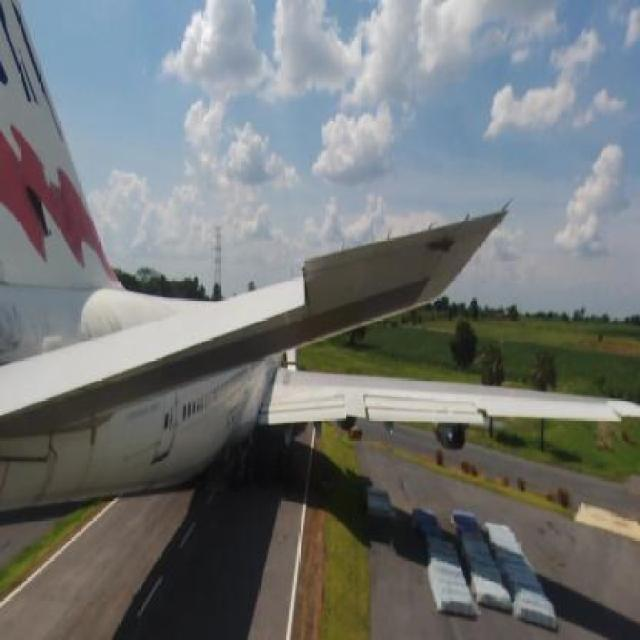Rust: (40, 443, 62, 514), (2, 302, 33, 346), (88, 428, 99, 499)
Scartch: (102, 312, 128, 331)
